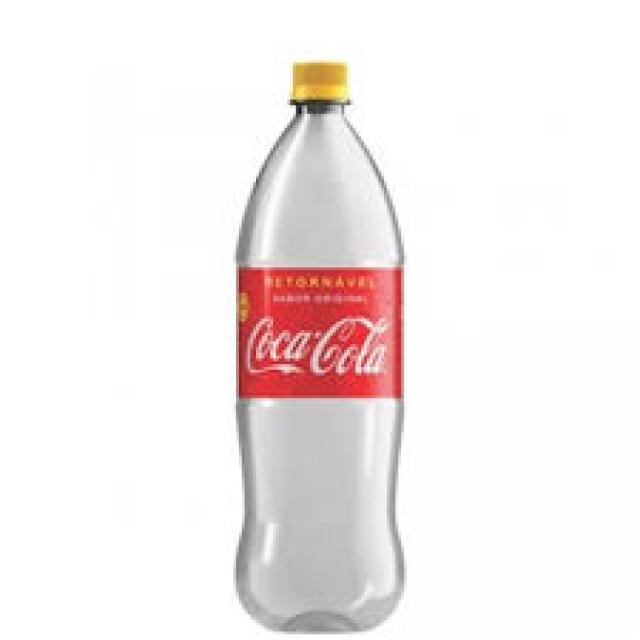bottom: (236, 505, 404, 632)
label: (239, 268, 401, 398)
neck: (238, 62, 404, 267)
